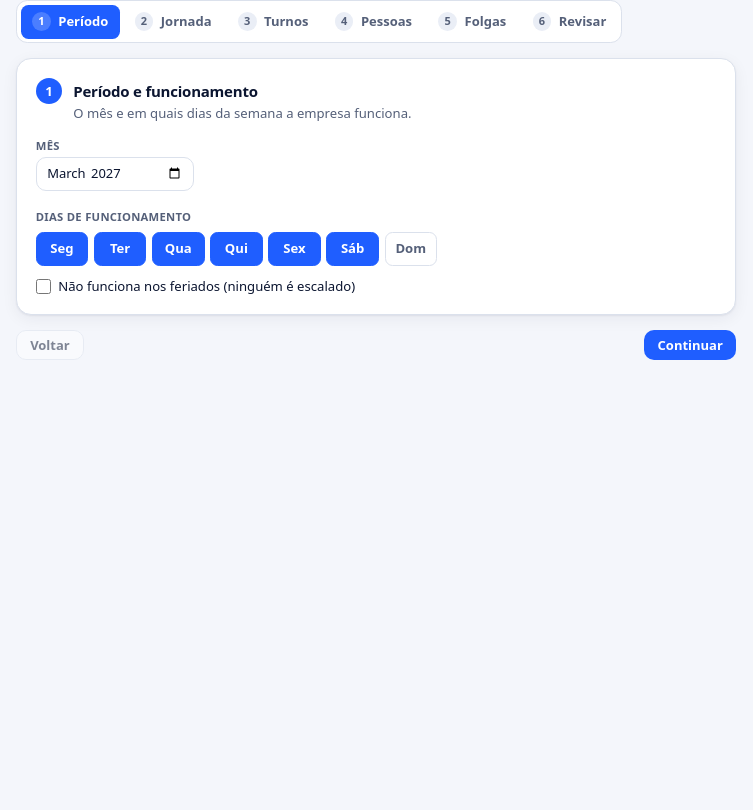
Gerar escala (tela) › resultado por setor: cobertura, falta de gente, dias fechados, férias e atalho para o editor; setor com erro não esconde os outros
Click the button "6 Revisar": (569, 22) [521,5,618,39]
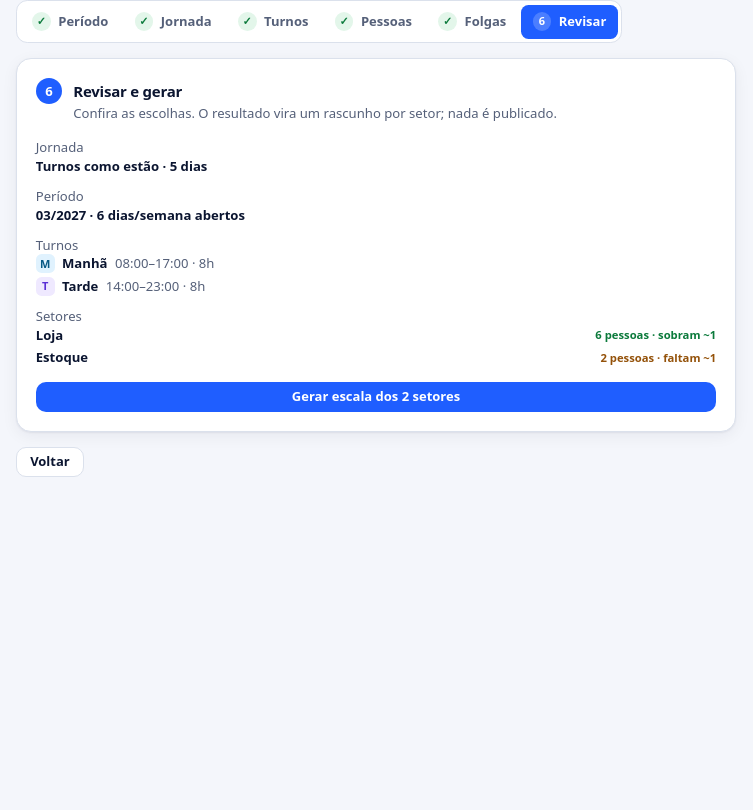
Click the button "Gerar escala dos 2 setores": (376, 397) [36,382,716,412]
(page scrolled)
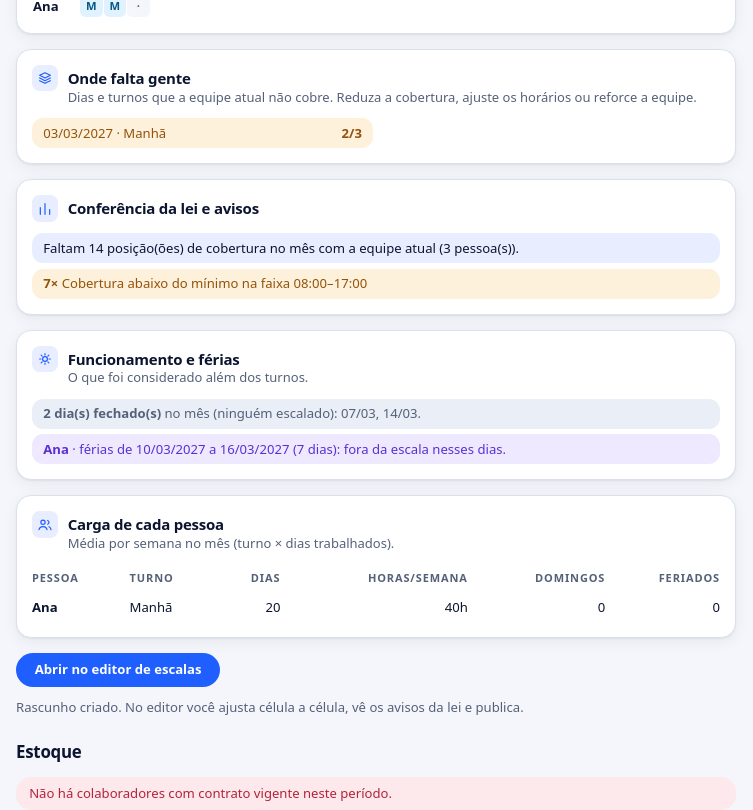
Check: the text "2/3" is shown, box [342,124,362,143]
Check: the text "2 dia(s) fechado(s)" is shown, box [43,404,161,422]
Check: the list item "férias de 10/03/2027 a 16/03/2027 (7 dias)" is shown, box [32,434,720,464]
